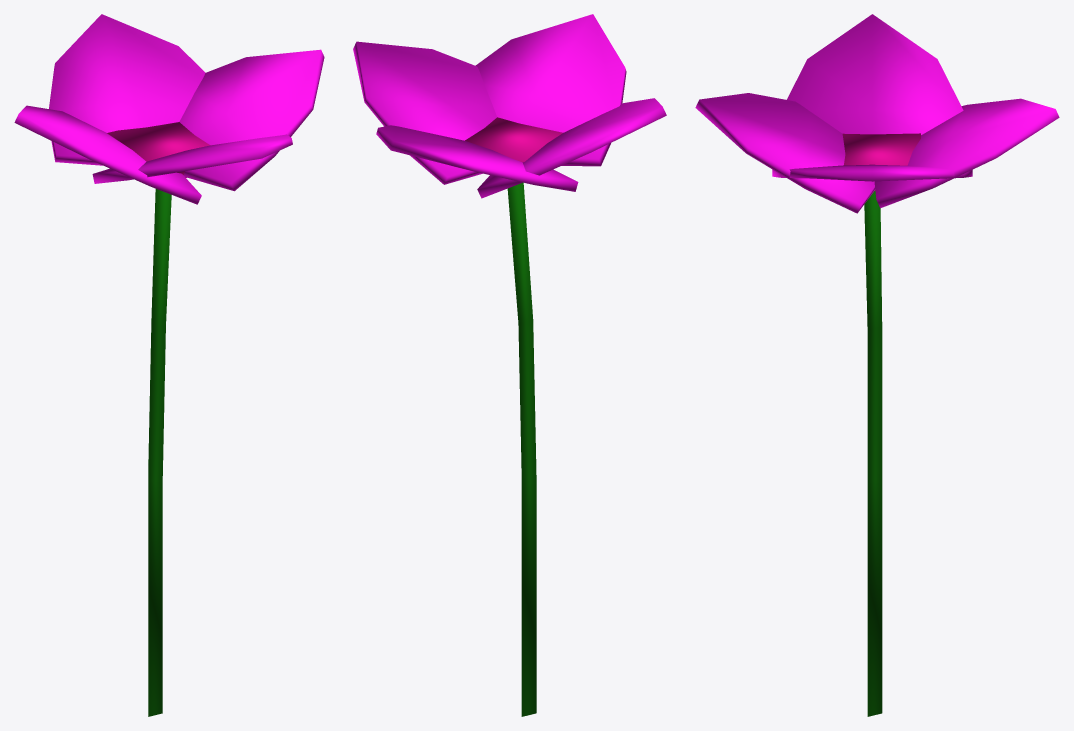
File: Blossom.fbx
3 views of the same model, side by side, from view 1: azimuth 30°, elevation 25°; view 2: azimuth 150°, elevation 25°; view 3: azimuth 270°, elevation 25° (orthographic).
Visible parts, largest first — view 1: Cylinder; view 2: Cylinder; view 3: Cylinder.
Boxes of the visible parts, x1,y1,x2,y2 form: Cylinder: (14, 14, 324, 716); Cylinder: (353, 14, 666, 716); Cylinder: (695, 14, 1059, 716).
Bounding box in the file's own units: 1.93 × 3.76 × 1.96.
